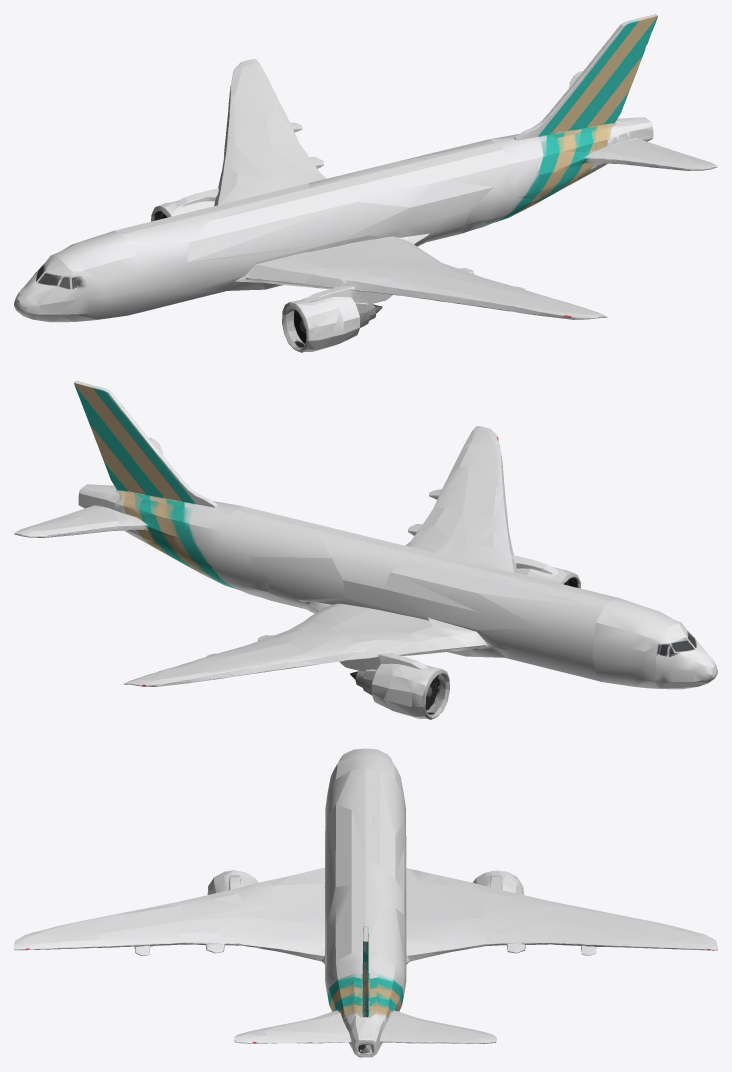
File: airliner.glb
3 views of the same model, one above another, from view 1: azimuth 30°, elevation 25°; view 2: azimuth 150°, elevation 25°; view 3: azimuth 270°, elevation 25° (orthographic).
Bounding box in the file's own units: 1.9 × 0.5271 × 1.81.
Materials: 1 (1 with a texture image).
